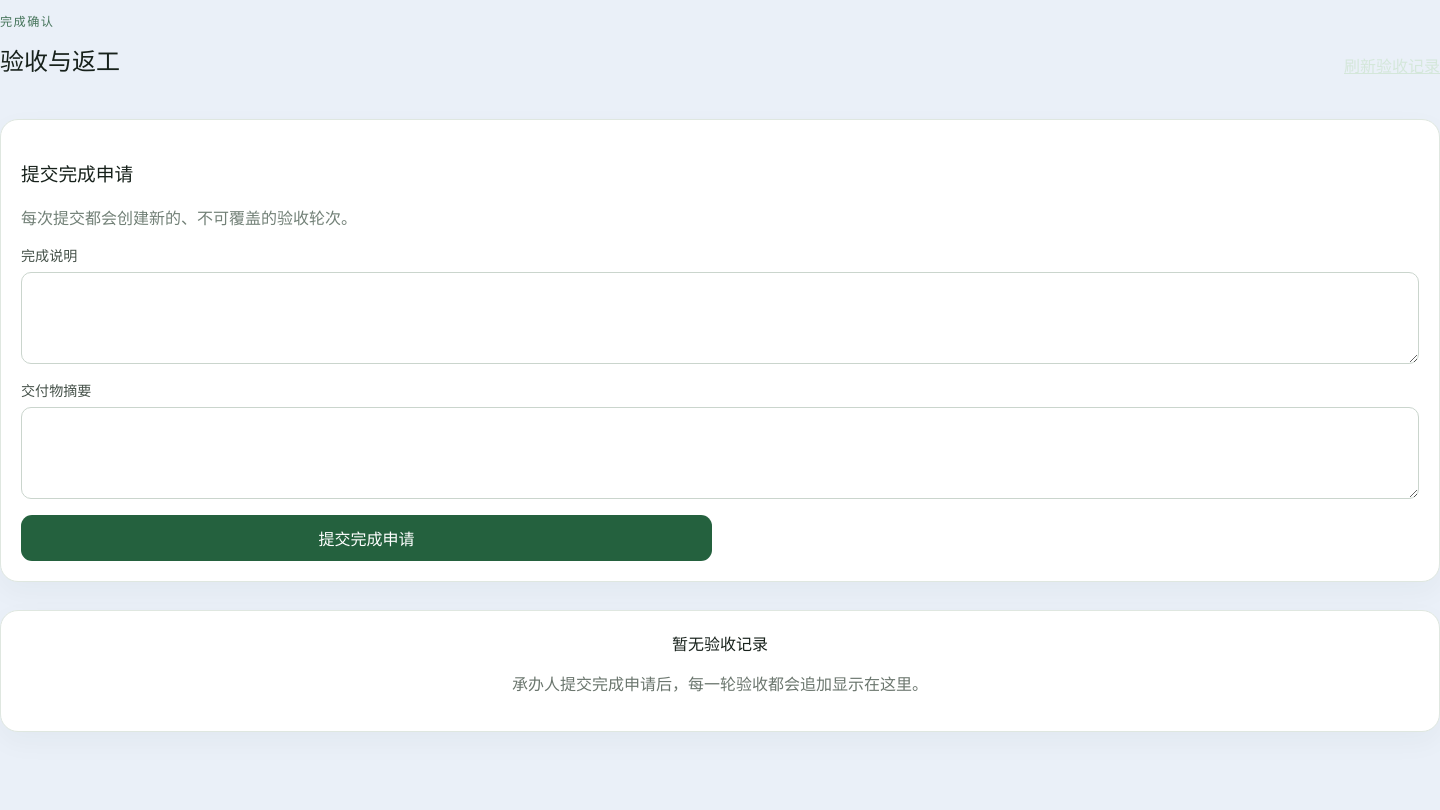
Test: CompletionReviewsPanel › submits required completion content with the server task version
Expected: the text "暂无验收记录" is shown, [672,634,768,654]
Type "功能与测试已经完成" into the text box labelled "完成说明" at (720, 318), box [21,272,1419,364]
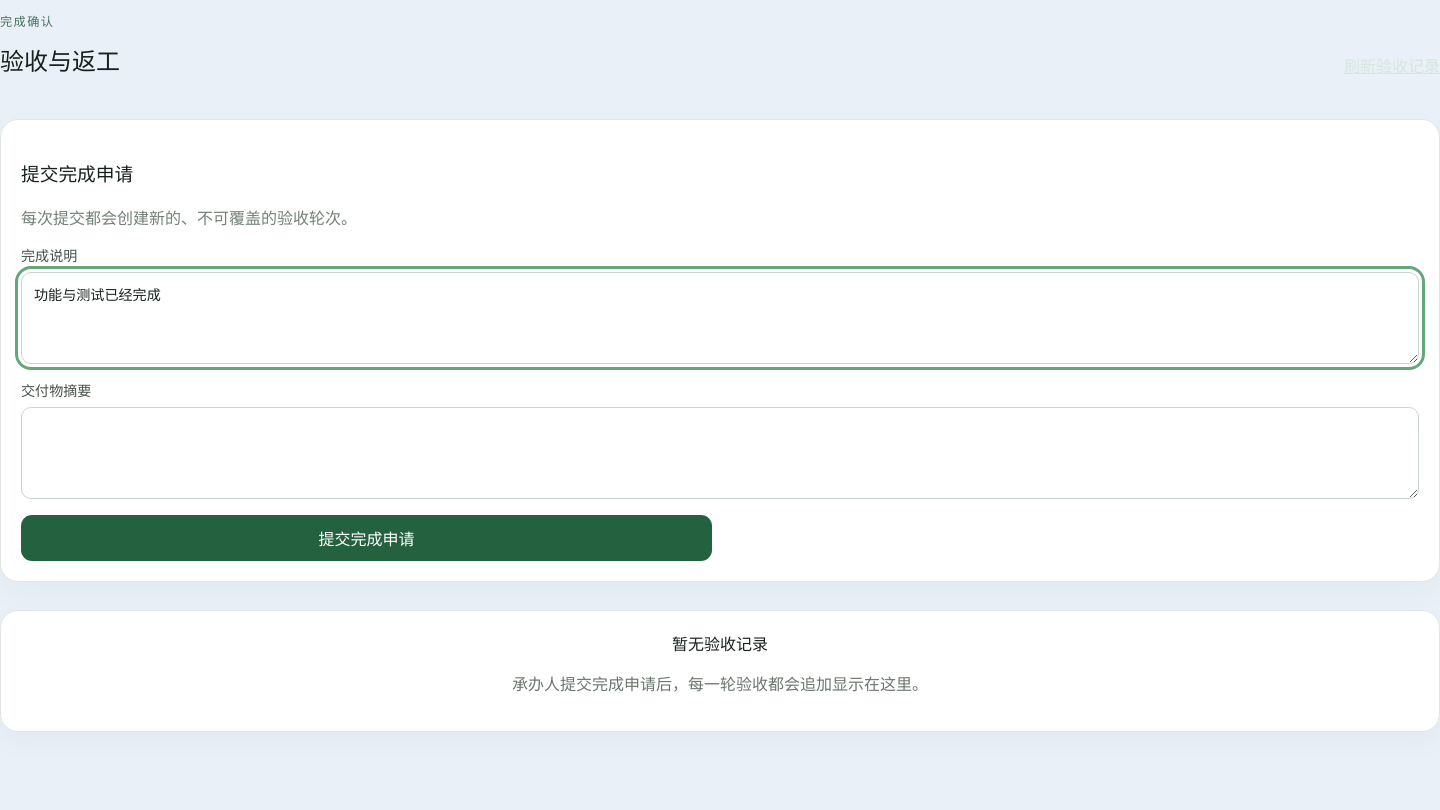
Type "报告、源码与验收结果" into the text box labelled "交付物摘要" at (720, 453), box [21,407,1419,499]
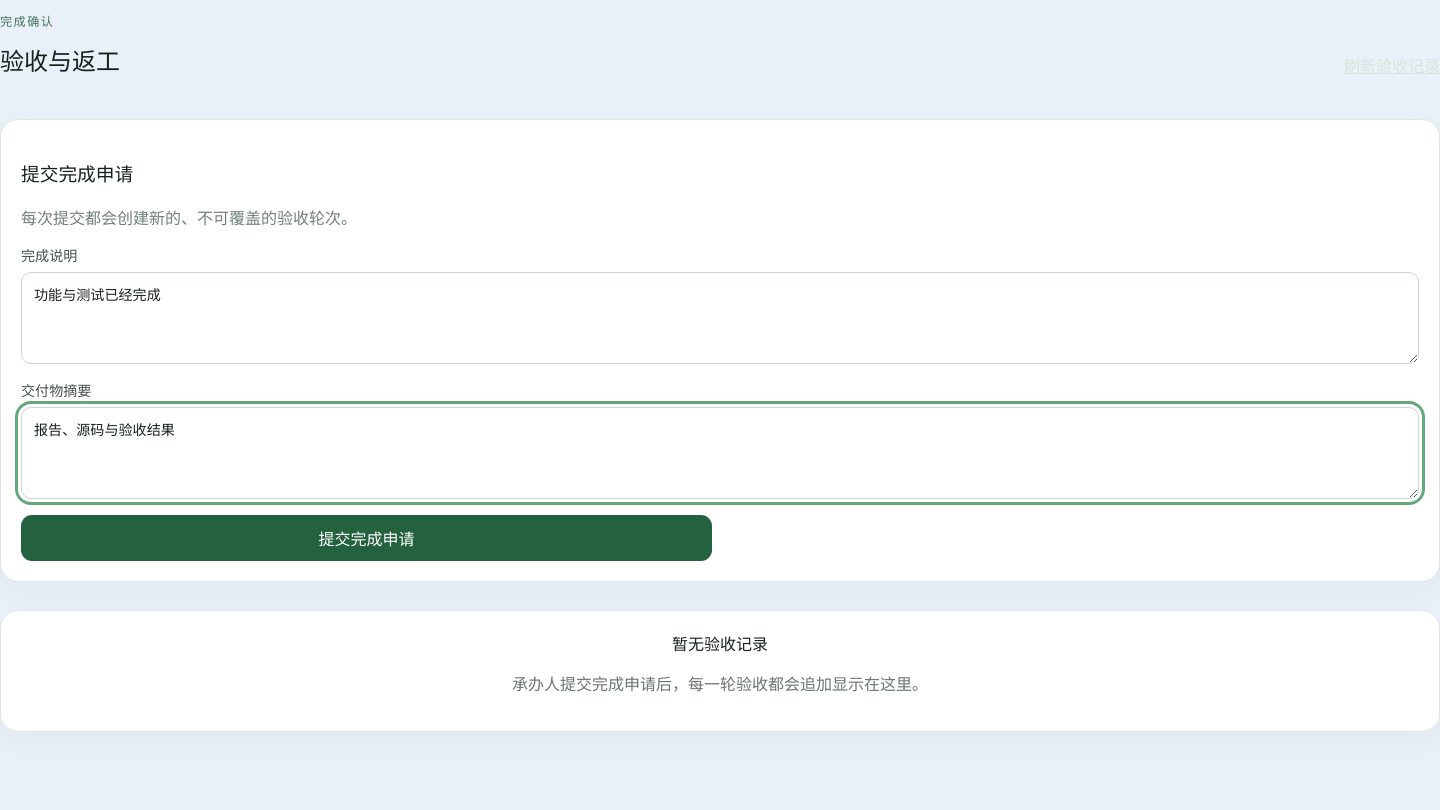
Click the button "提交完成申请" at (366, 538), box [21,515,712,561]
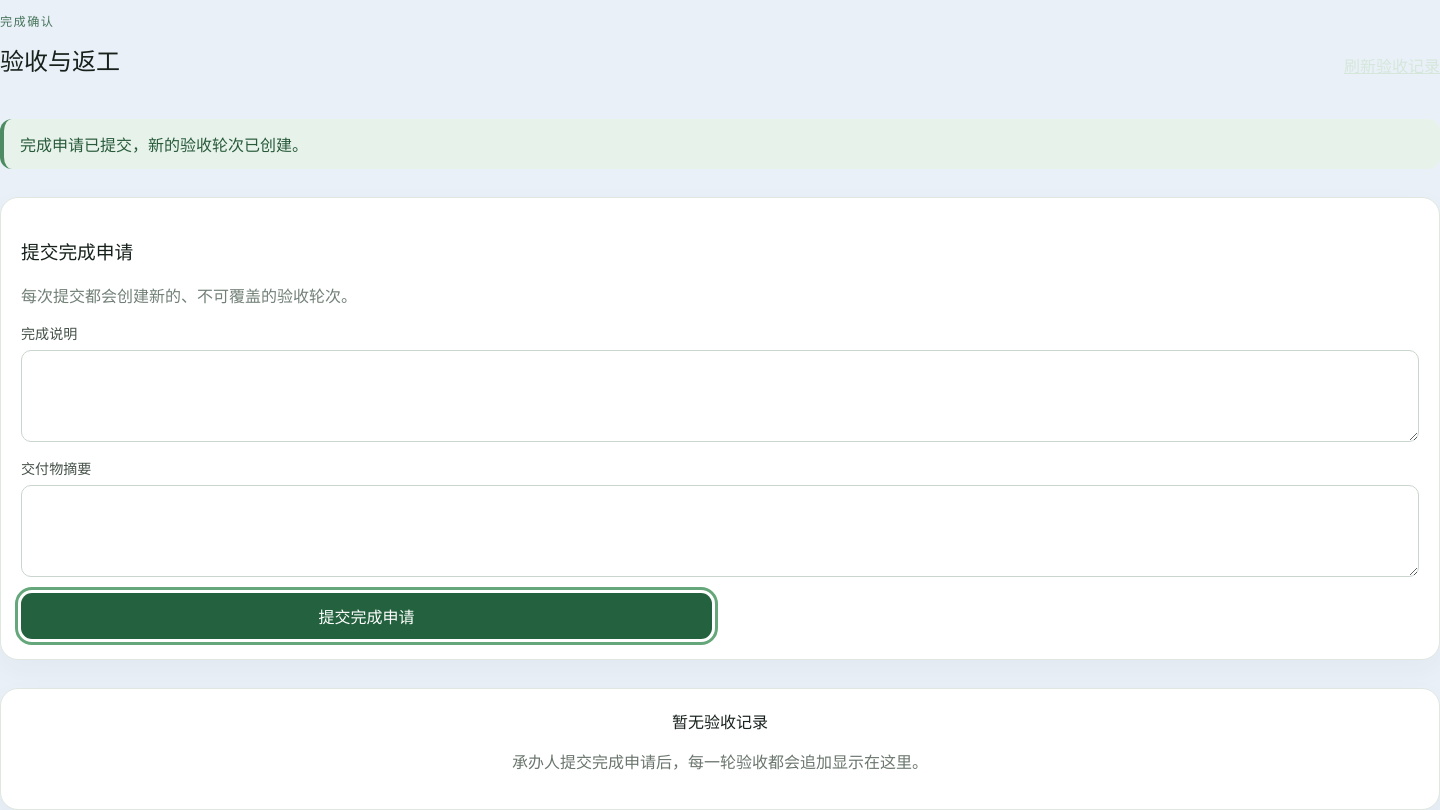
Result: the text "完成申请已提交，新的验收轮次已创建。" is shown at [20,135,308,155]
